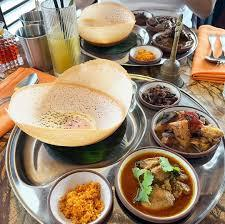Hoppers: (5, 55, 137, 153)
